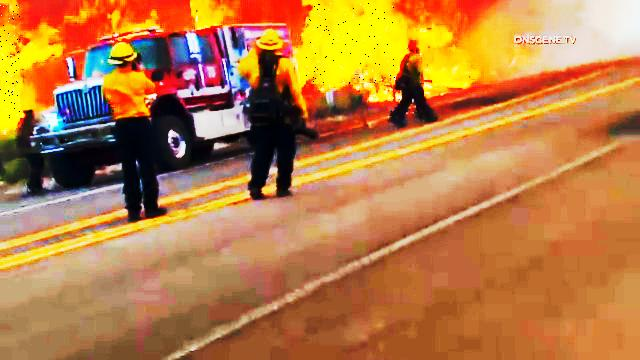fire: (306, 3, 395, 84), (0, 4, 20, 119)
